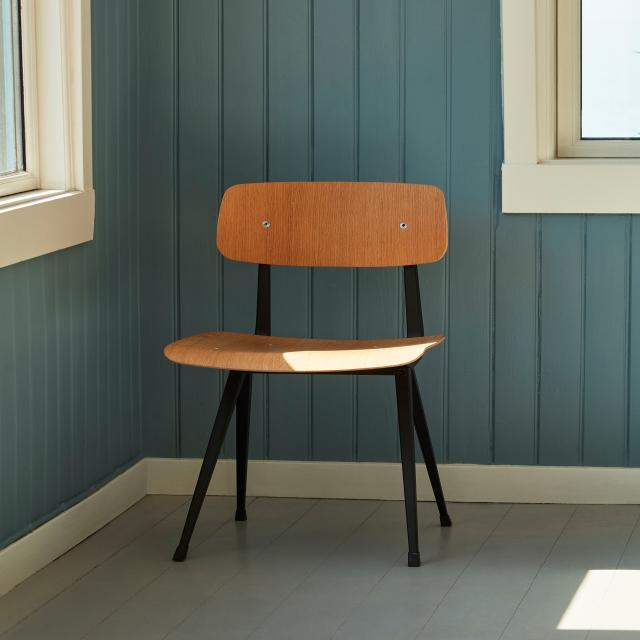chair: (99, 150, 528, 604)
